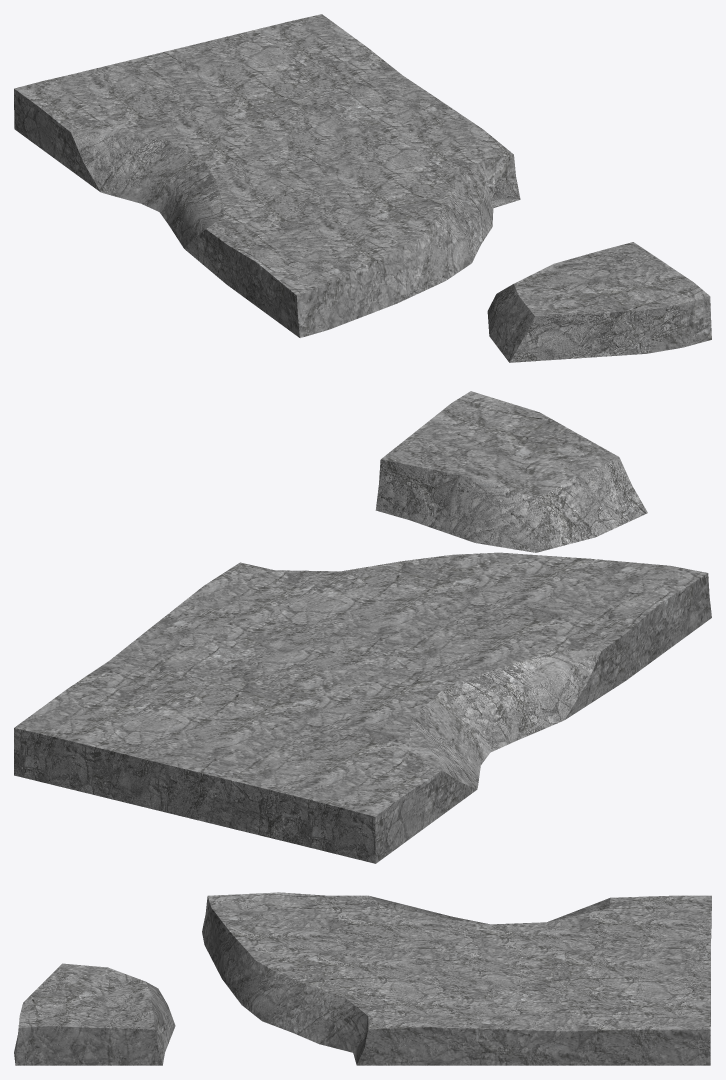
Rendered from materials_3_road_12.fbx.
The picture shows the model from 3 angles, top to bottom: view 1: azimuth 30°, elevation 25°; view 2: azimuth 150°, elevation 25°; view 3: azimuth 270°, elevation 25°; orthographic projection. The views are drawn at different scales.
Parts seen in each view (by area): view 1: materials_3_road_12; view 2: materials_3_road_12; view 3: materials_3_road_12.
Part boxes in pixels (<box>): materials_3_road_12: <box>14,14,711,362</box>; materials_3_road_12: <box>14,391,711,863</box>; materials_3_road_12: <box>14,892,711,1065</box>.
Bounding box in the file's own units: 235 × 32.09 × 515.
